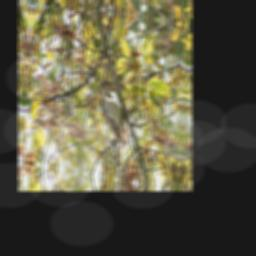Cuckoo: (93, 86, 131, 151)
